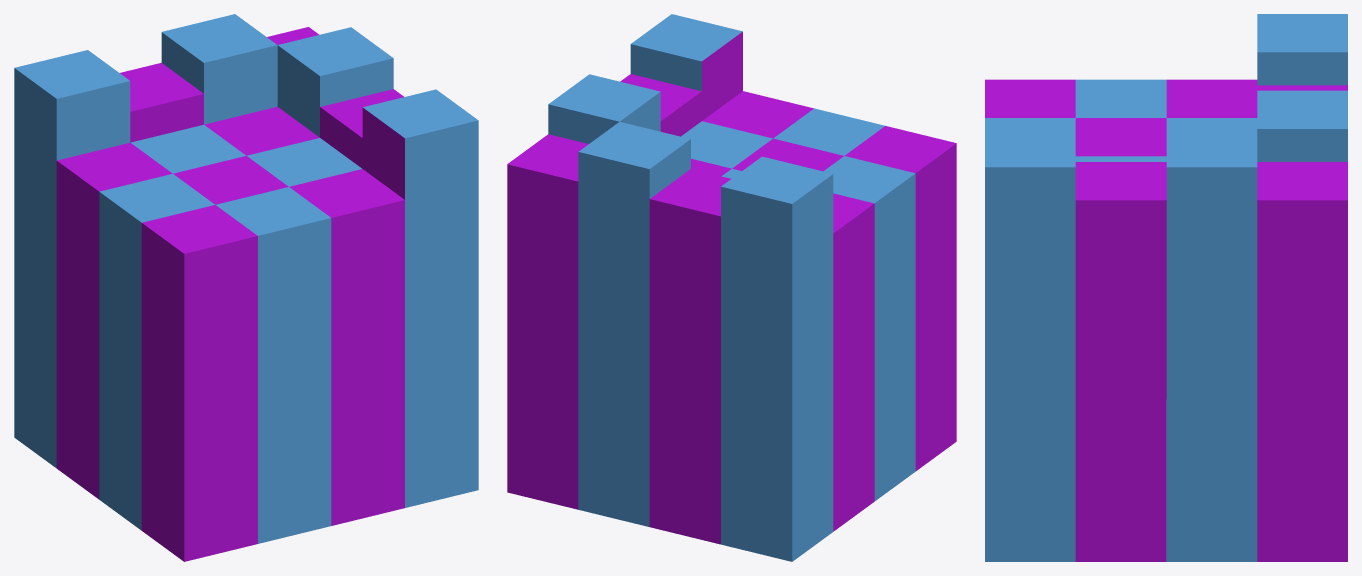
The model's file is wall_corner.fbx.
3 views of the same model, side by side, from view 1: azimuth 30°, elevation 25°; view 2: azimuth 150°, elevation 25°; view 3: azimuth 270°, elevation 25° (orthographic). The views are drawn at different scales.
Visible parts, largest first — view 1: Wall.001; view 2: Wall.001; view 3: Wall.001.
Part boxes in pixels (left/top/right/bottom): Wall.001: left=14, top=14, right=478, bottom=561; Wall.001: left=507, top=14, right=956, bottom=561; Wall.001: left=985, top=14, right=1347, bottom=561.
Bounding box in the file's own units: 200 × 240 × 200.
